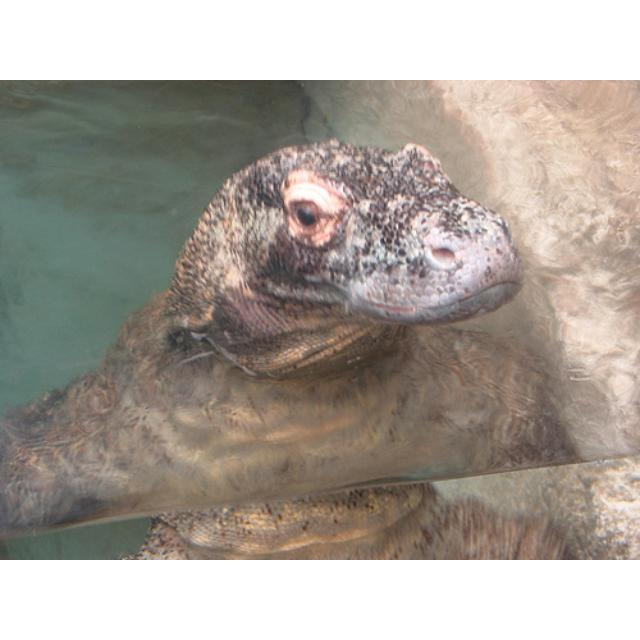KomodoDragon: (1, 139, 638, 553)
